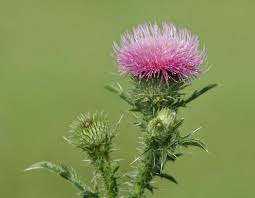bull thistle: (103, 15, 214, 143)
